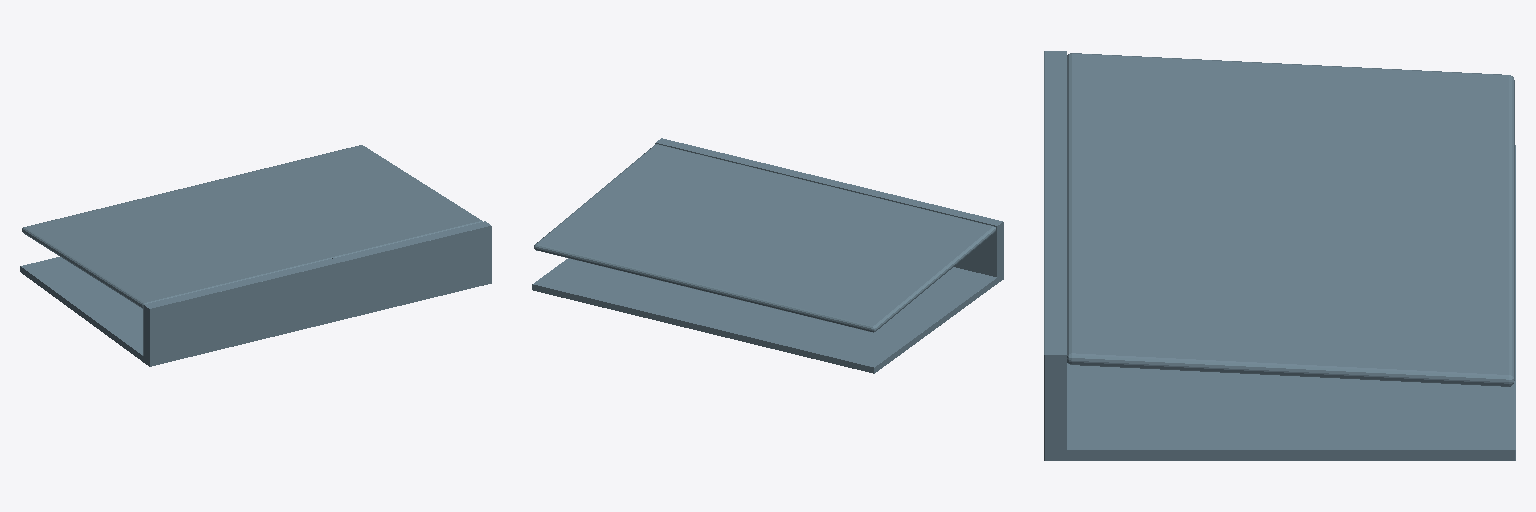
URDF robot description (file_9):
<?xml version="1.0"?>
<robot name="file_9">
  <link name="base_link">
    <visual>
      <origin xyz="0 0 0" rpy="0 0 0"/>
      <geometry>
        <mesh filename="meshes/base_link.obj" scale="1 1 1"/>
      </geometry>
      <material name="body_blue_grey">
        <color rgba="0.479999989 0.569999993 0.620000005 1"/>
      </material>
    </visual>
    <collision>
      <origin xyz="0 0 0" rpy="0 0 0"/>
      <geometry>
        <mesh filename="meshes/base_link.obj" scale="1 1 1"/>
      </geometry>
    </collision>
    <inertial>
      <origin xyz="0 0 0.18" rpy="0 0 0"/>
      <mass value="1.0"/>
      <inertia ixx="0.20" ixy="0" ixz="0" iyy="0.40" iyz="0" izz="0.55"/>
    </inertial>
  </link>

  <link name="top_panel_link">
    <visual>
      <origin xyz="0 0 0" rpy="0 0 0"/>
      <geometry>
        <mesh filename="meshes/top_panel_link.obj" scale="1 1 1"/>
      </geometry>
      <material name="top_panel_blue_grey">
        <color rgba="0.479999989 0.569999993 0.620000005 1"/>
      </material>
    </visual>
    <collision>
      <origin xyz="0 0 0" rpy="0 0 0"/>
      <geometry>
        <mesh filename="meshes/top_panel_link.obj" scale="1 1 1"/>
      </geometry>
    </collision>
    <inertial>
      <origin xyz="0 0.75 -0.02" rpy="0 0 0"/>
      <mass value="0.35"/>
      <inertia ixx="0.09" ixy="0" ixz="0" iyy="0.20" iyz="0" izz="0.28"/>
    </inertial>
  </link>

  <joint name="top_panel_hinge_joint" type="revolute">
    <parent link="base_link"/>
    <child link="top_panel_link"/>
    <origin xyz="0 -0.769999981 0.397499979" rpy="0 -0 0"/>
    <axis xyz="1 0 0"/>
    <limit lower="0" upper="1.22173048" effort="5" velocity="1"/>
  </joint>
</robot>

--- Render facts (derived) ---
Views: 3 orthographic renders of the robot side by side, from view 1: azimuth 30°, elevation 25°; view 2: azimuth 150°, elevation 25°; view 3: azimuth 270°, elevation 25°.
Robot: file_9 — 2 links, 1 joints (1 revolute); root link base_link; default pose: every joint at zero.
Visible links, largest first — view 1: top_panel_link, base_link; view 2: top_panel_link, base_link; view 3: top_panel_link, base_link.
Link boxes in pixels (box(x1,y1,x2,y2)): top_panel_link: box(22, 145, 482, 308); base_link: box(20, 221, 491, 366); top_panel_link: box(534, 144, 995, 332); base_link: box(532, 138, 1003, 373); top_panel_link: box(1067, 53, 1514, 386); base_link: box(1044, 51, 1515, 460).
Bounding box of the posed robot: 2.6 × 1.7 × 0.421 m (x, y, z).
Meshes: 2 distinct files referenced, 2 mesh visuals loaded (2 OBJ).
